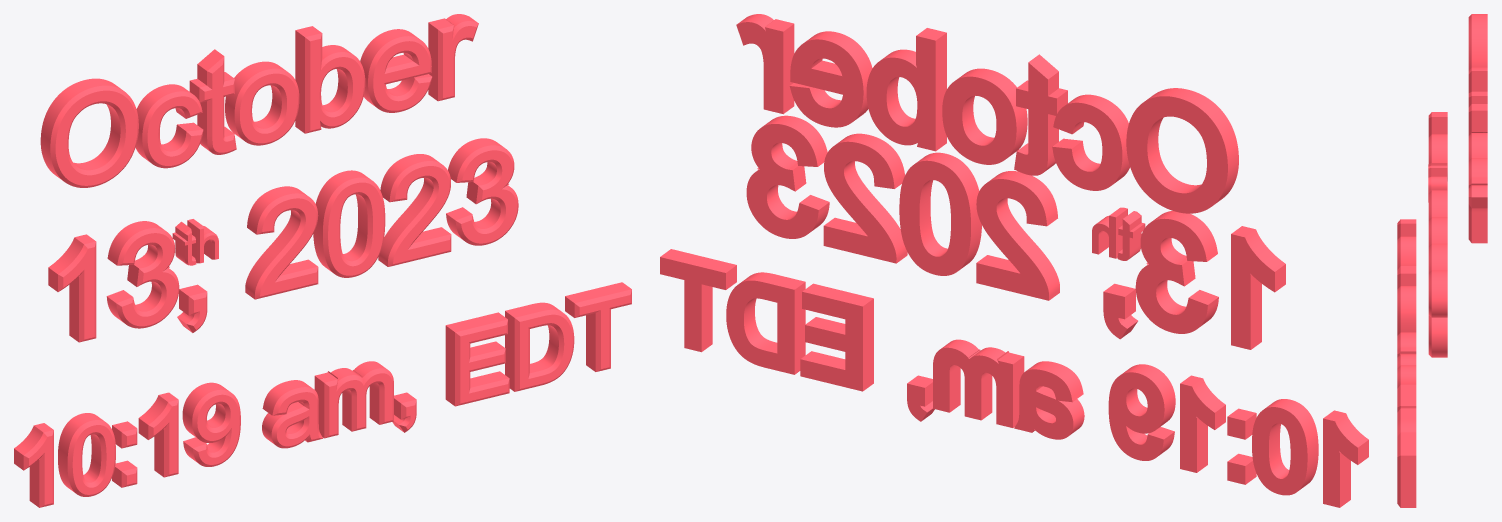
Rendered from LaunchDate-transformed.glb.
3 renders of one model, left to right at view 1: azimuth 30°, elevation 25°; view 2: azimuth 150°, elevation 25°; view 3: azimuth 270°, elevation 25°, orthographic. The views are drawn at different scales.
Parts seen in each view (by area): view 1: TextPlus001; view 2: TextPlus001; view 3: TextPlus001.
Boxes of the visible parts, left/top/right/bottom form: TextPlus001: left=14, top=14, right=631, bottom=507; TextPlus001: left=660, top=14, right=1368, bottom=507; TextPlus001: left=1397, top=14, right=1487, bottom=507.
Bounding box in the file's own units: 2.31 × 1.38 × 0.3615.
